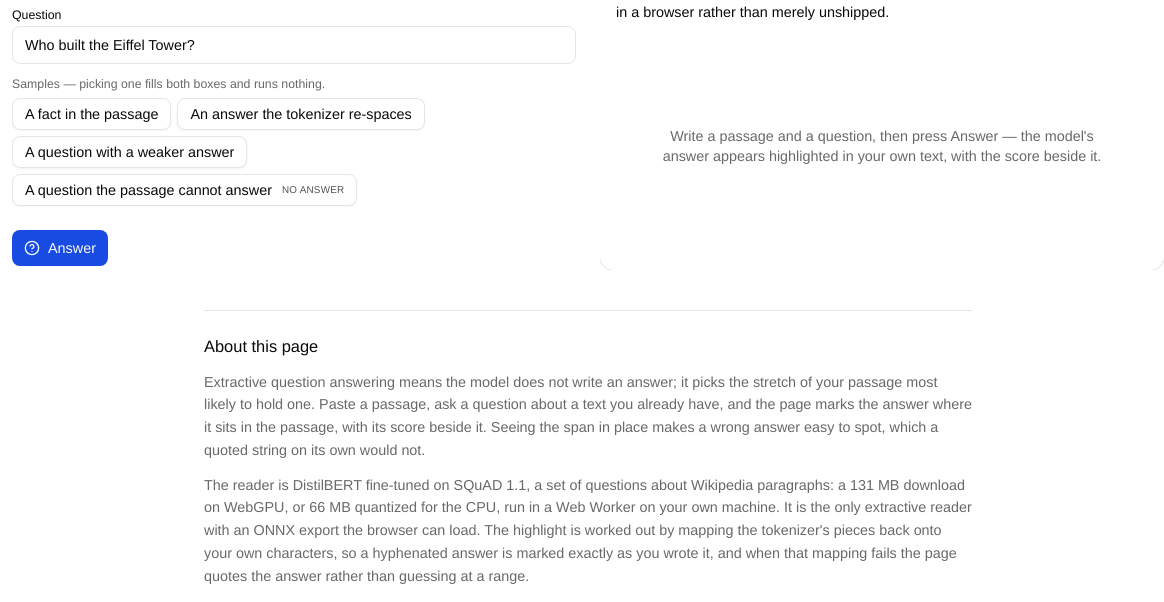
Test: QuestionAnsweringPage › quotes the answer rather than mis-marking it when alignment failed
This screenshot has width=1164, height=602.
(page scrolled)
Click the button "Answer": click(60, 248) [12,230,108,266]
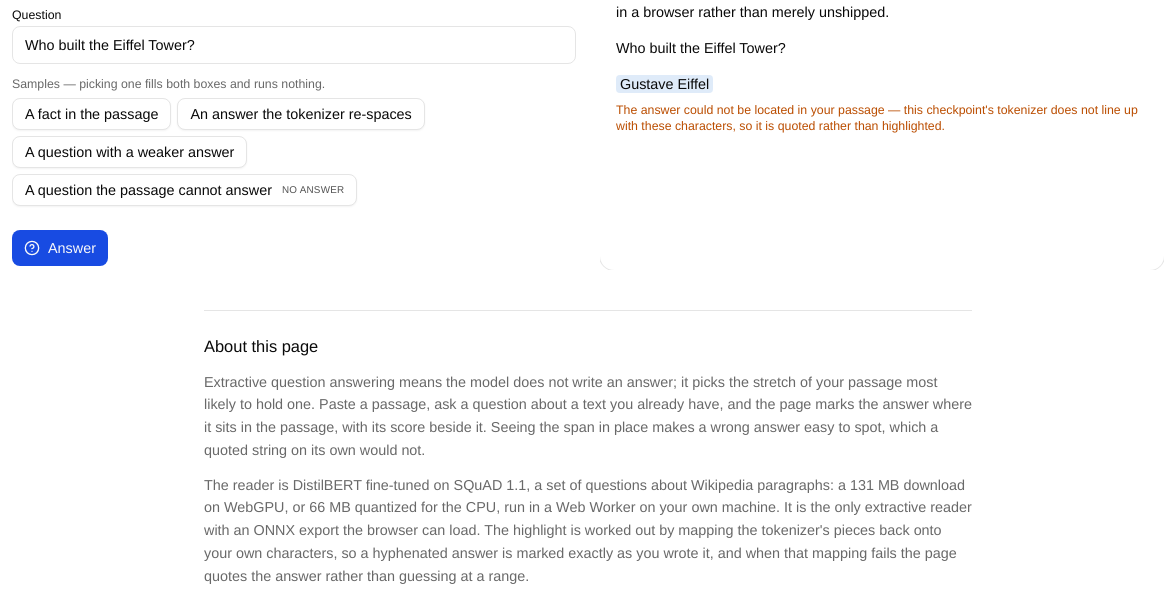
Result: the element with test id "answer-unaligned" is shown at [616,74,1148,134]
Result: the element with test id "answer-unaligned" shows "Gustave Eiffel" at [620,74,709,92]
